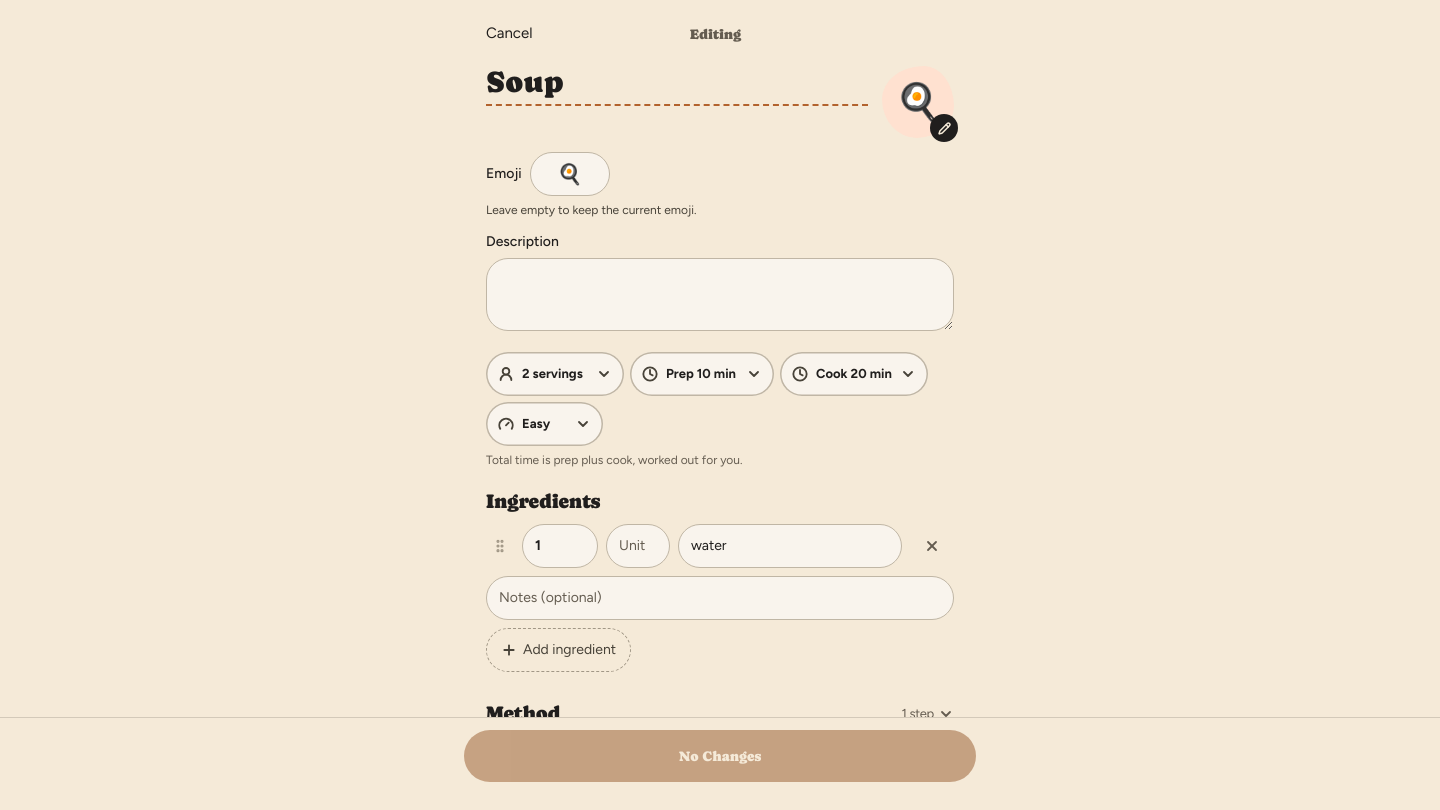
it: RecipeEditPage layout and guard › has one Cancel, in the header, and Save is named "Save changes"
The width and height of the screenshot is (1440, 810).
expect the number of buttons "Cancel" is 1: met, box [476,12,542,56]
expect the heading "Editing" is shown: met, box [690,26,741,42]
Replace the text in the field named "Title" with "Stew". click: (677, 86)
box: [486,66,868,106]
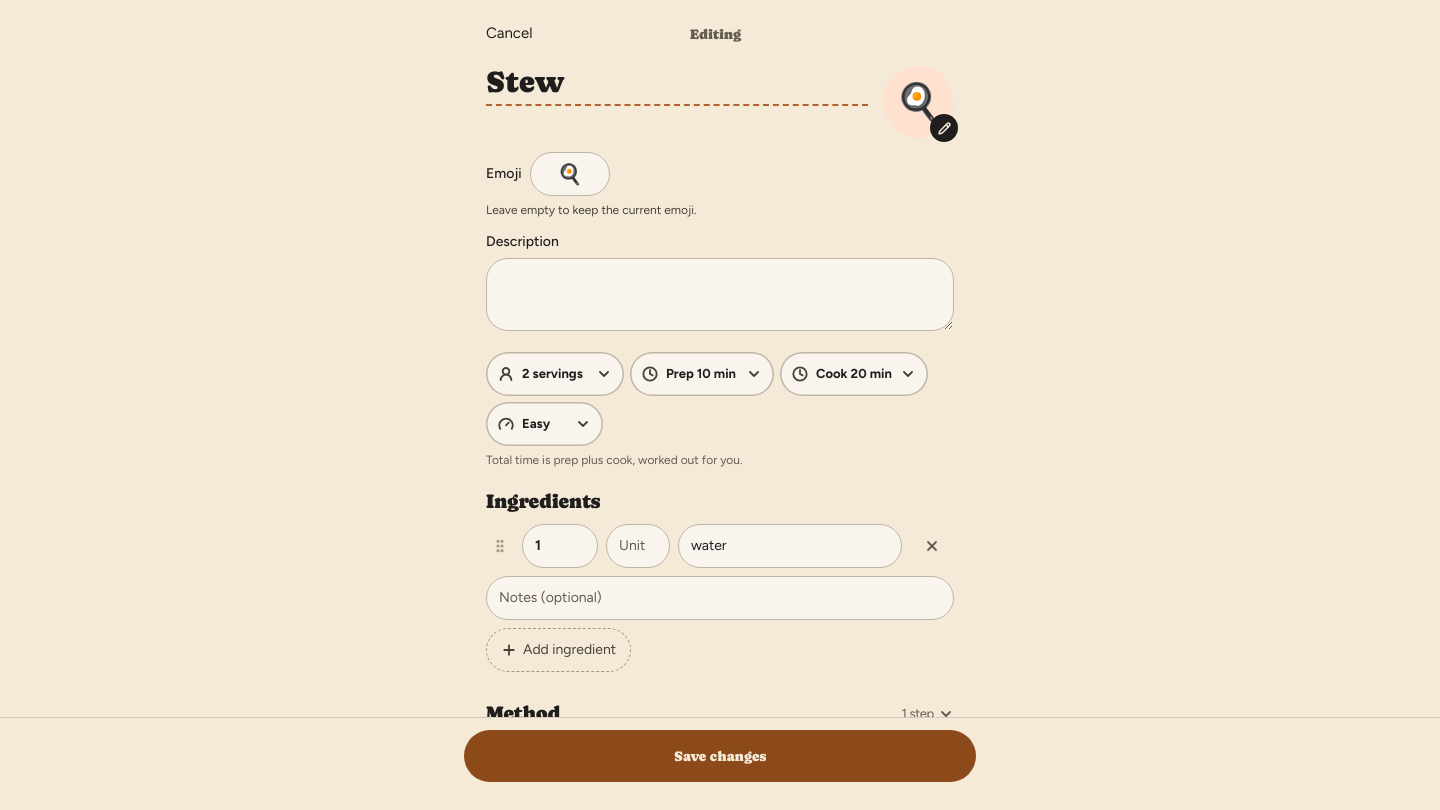
expect the button "Save changes" is shown: met, box [464,730,976,782]
